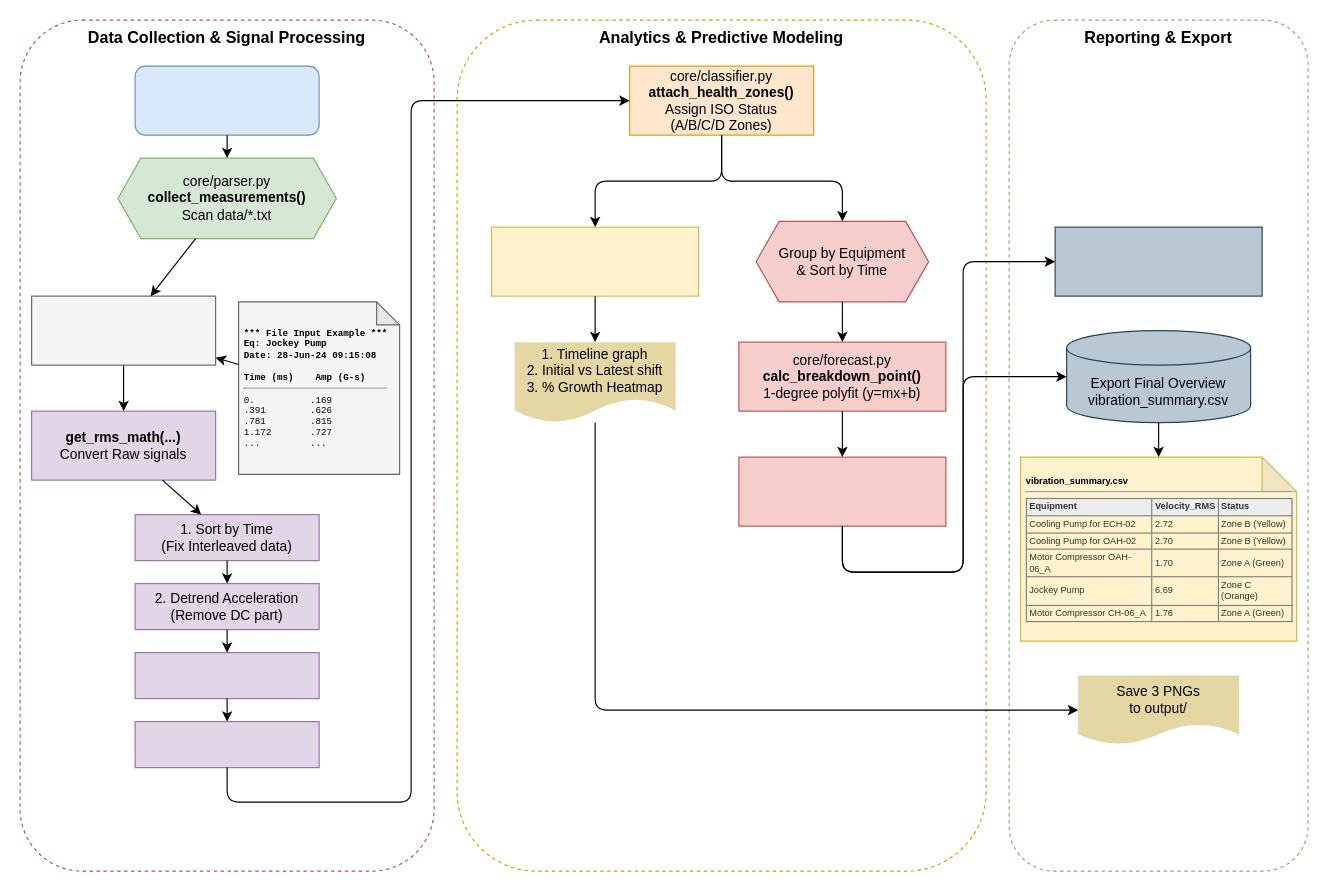
This 1328x891 diagram has some shape labels left out. Here are the shapes that lost their labels. From the top down, the box of each, then its label:
(134, 65, 319, 135): main.py start_job() Setup input/output paths
(490, 226, 699, 296): core/visualize.py generate_visualizations() Create PNG Charts
(1054, 226, 1262, 296): Print PrettyTable to Terminal [ TODAY'S ASSET OVERVIEW ]
(30, 295, 216, 365): Read lines, Find: - Equipment Name - Timestamp - Raw Time, Amplitude (g)
(738, 456, 946, 526): If Degrading (slope > 0): Find days to hit 7.1 limit Return Est. Date
(134, 651, 319, 699): 3. Integrate to Velocity (Trapezoidal method)
(134, 720, 319, 768): 4. Detrend Velocity & Calc Velocity RMS (mm/s)
